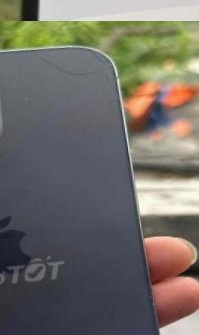physical_damage: (26, 31, 138, 116)
